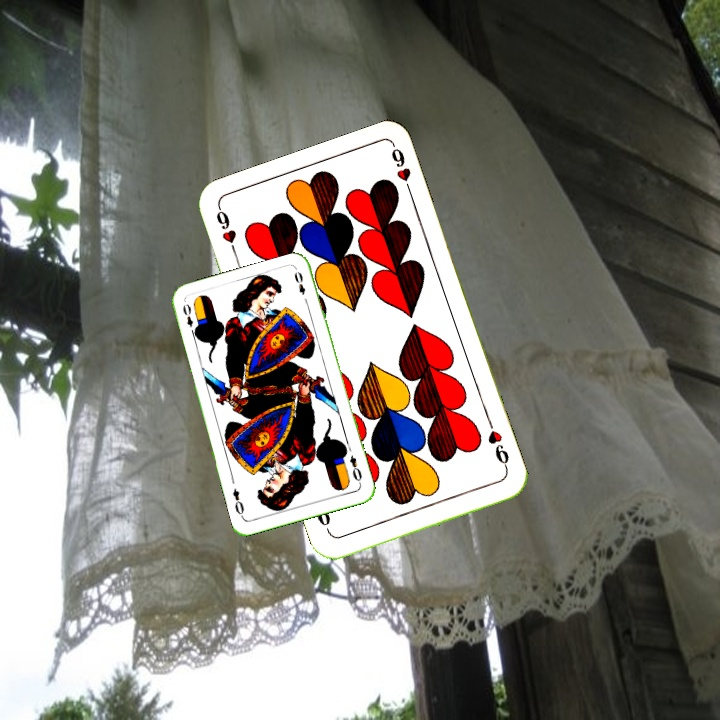EO: (179, 300, 200, 338), (346, 451, 364, 487)
H9: (212, 204, 241, 261), (484, 417, 512, 474)
